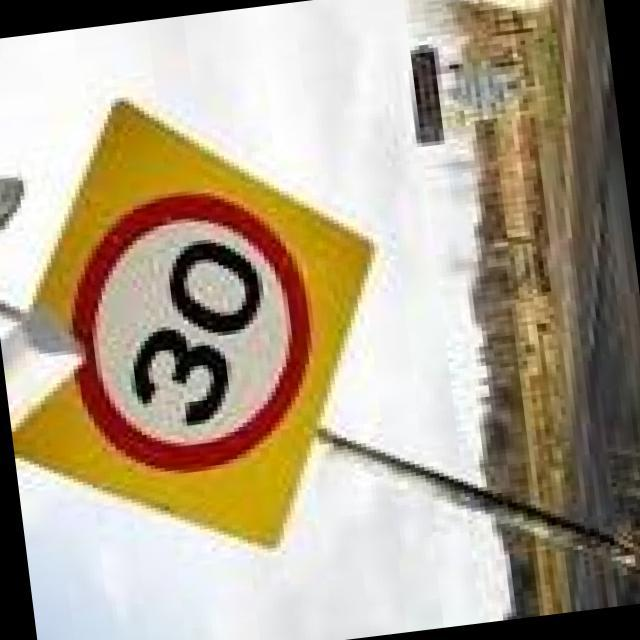obstructed_road_sign: (15, 101, 372, 545)
